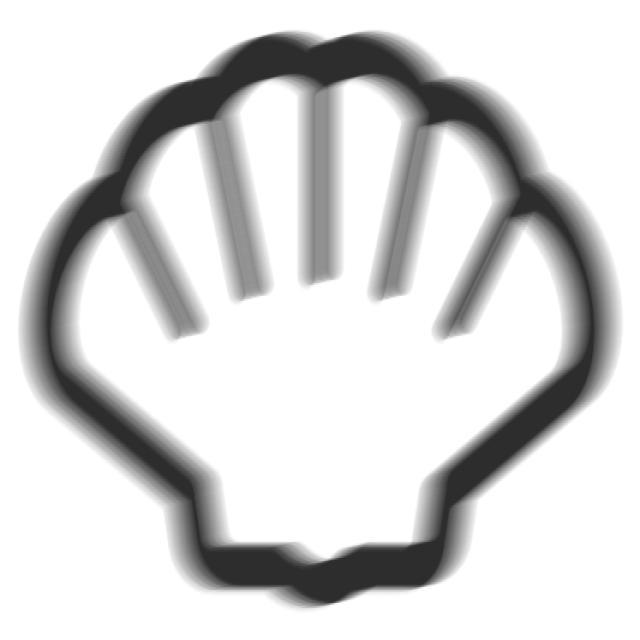shell: (9, 22, 628, 625)
